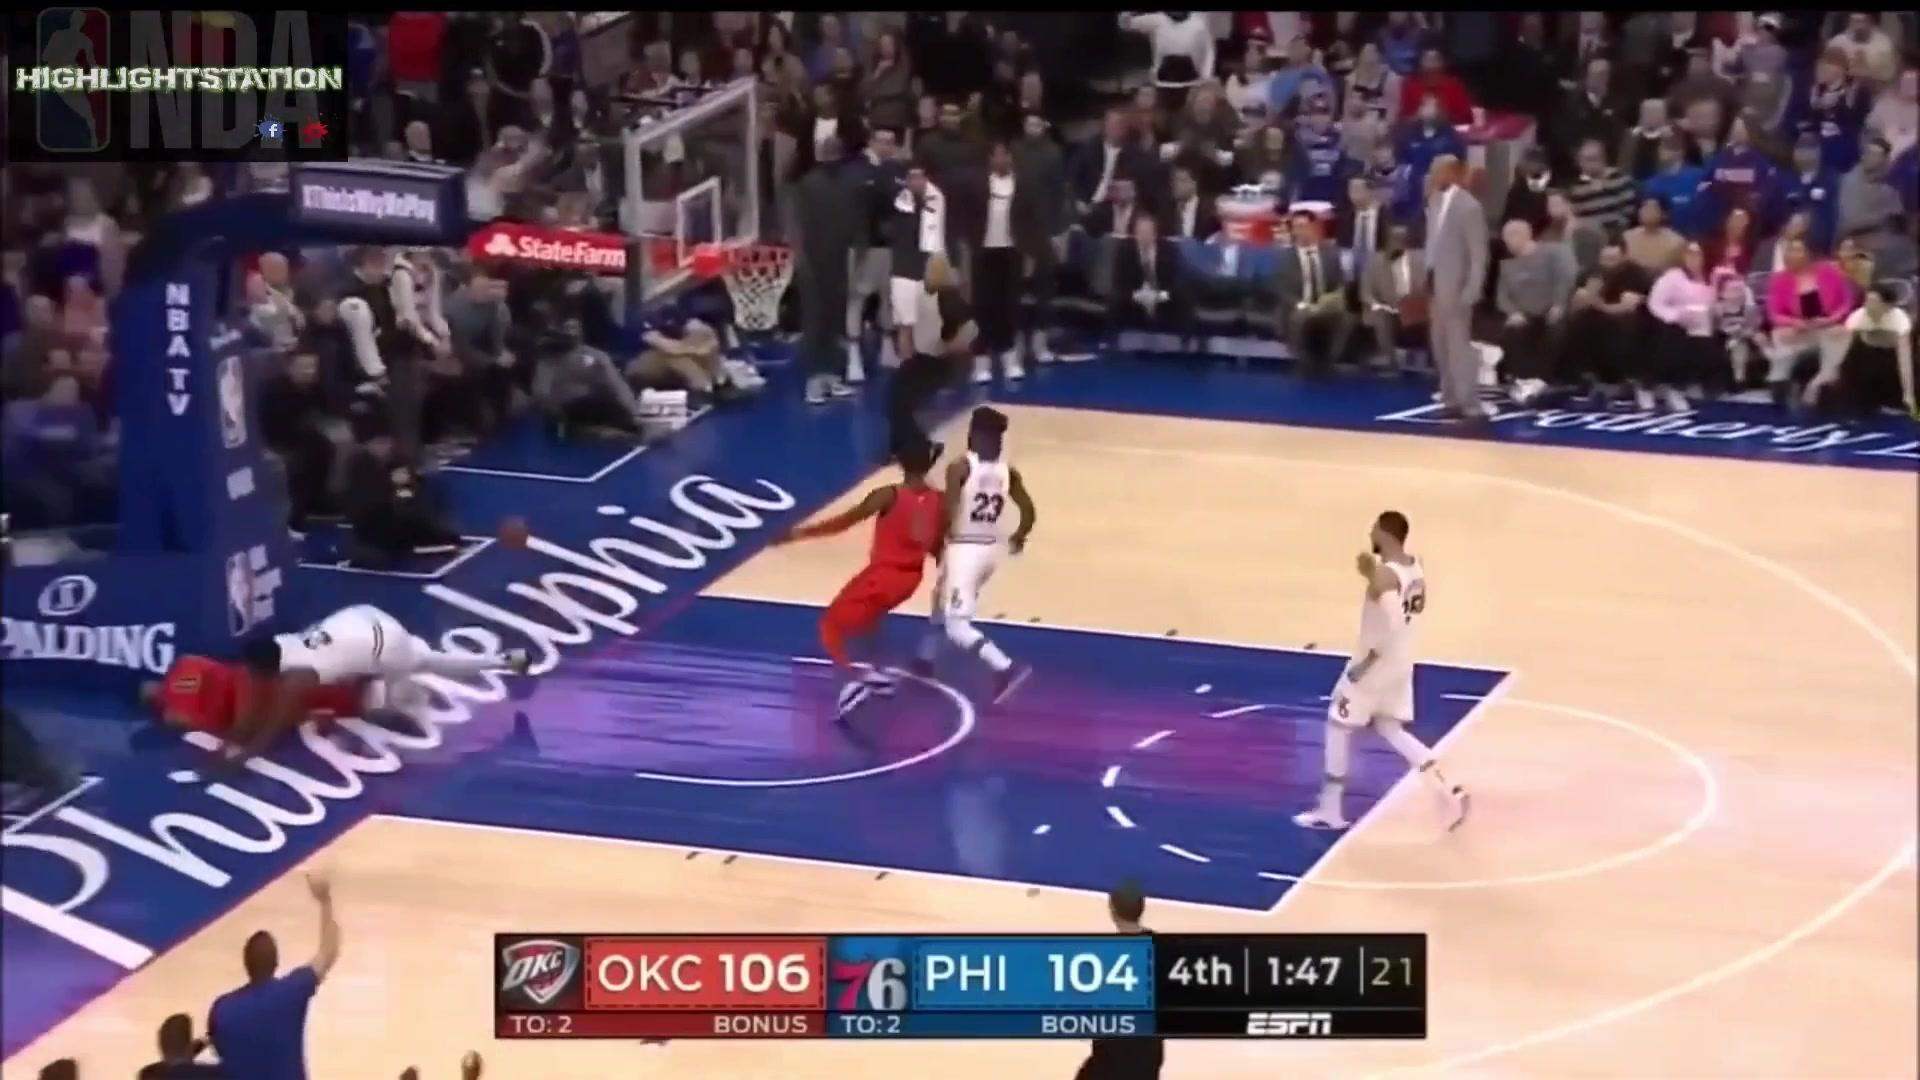foul: (166, 593, 531, 767)
